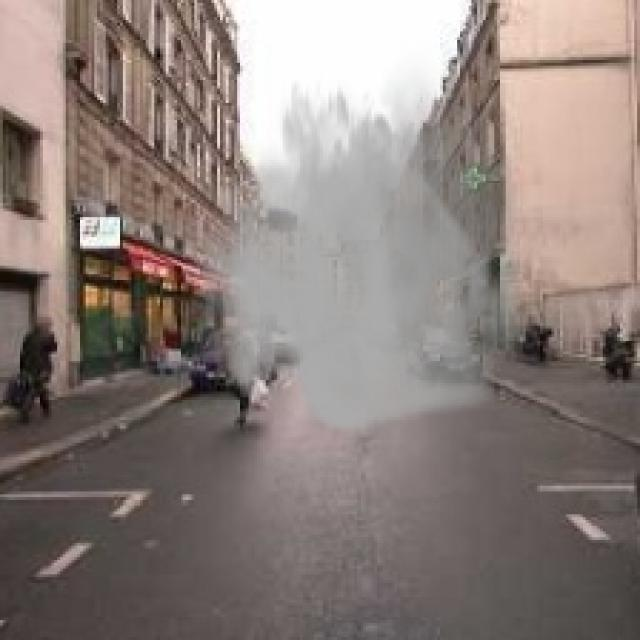smoke: (194, 43, 540, 440)
